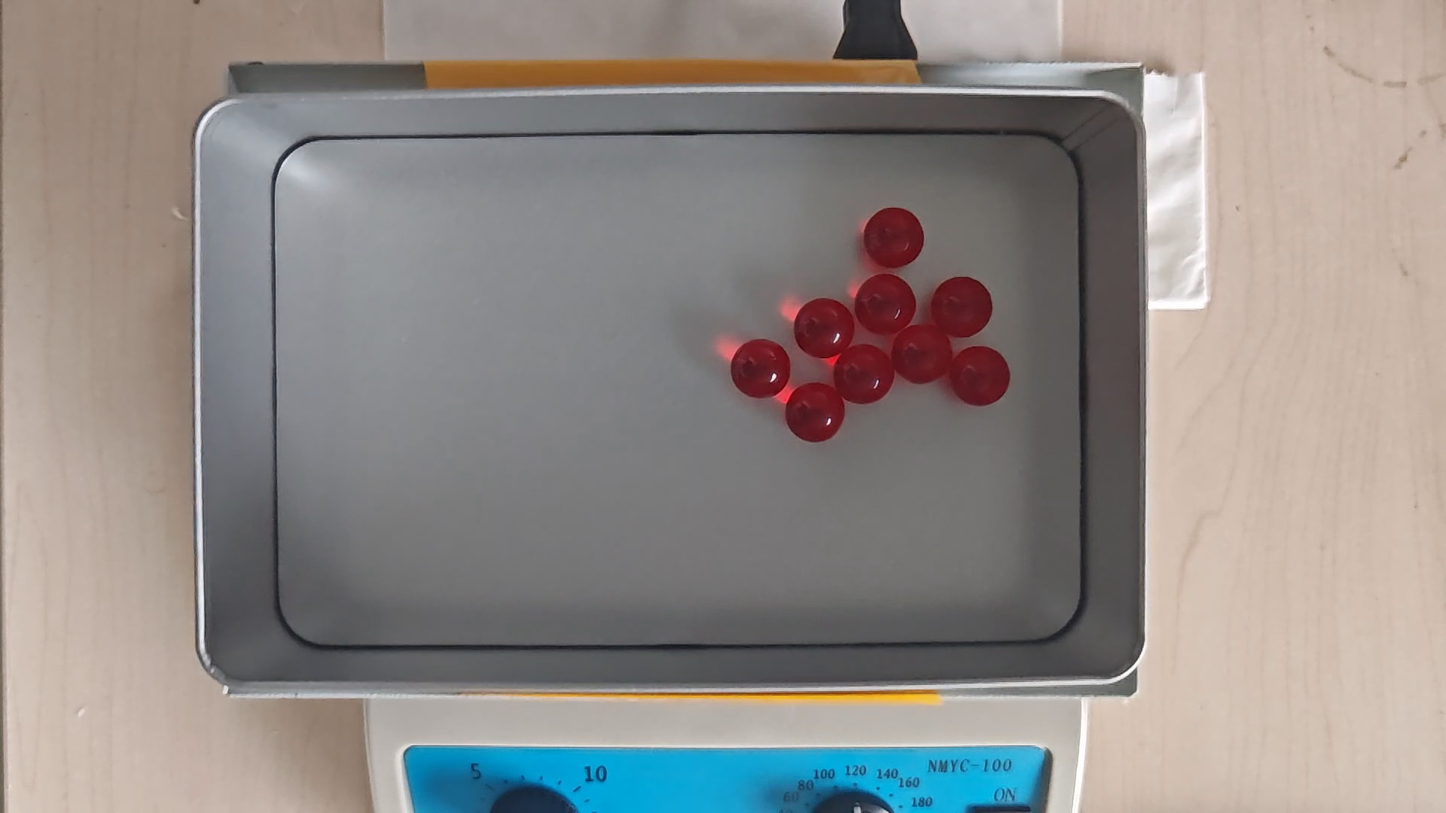ball: (855, 273, 916, 336), (864, 206, 924, 269), (730, 338, 791, 399), (932, 276, 993, 337), (893, 325, 954, 385), (951, 346, 1010, 408), (834, 344, 894, 404), (794, 297, 853, 358), (786, 382, 844, 443)
container: (275, 132, 1082, 646)
